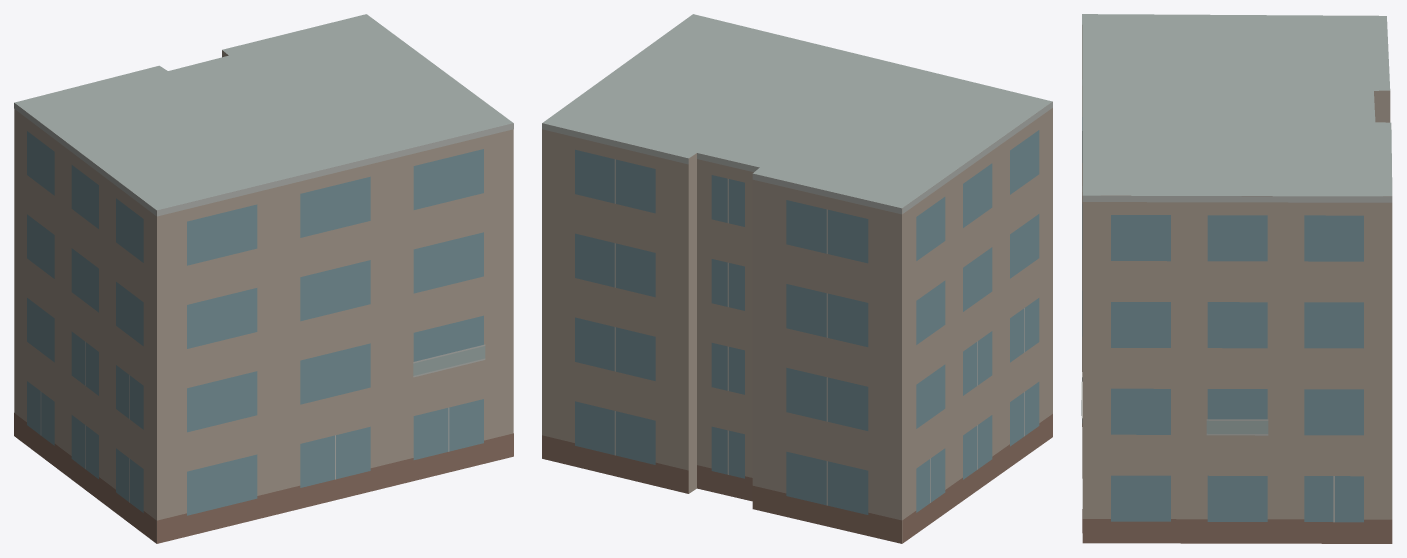
The model's file is survey-upis-32982273.glb.
The picture shows the model from 3 angles, left to right: view 1: azimuth 30°, elevation 25°; view 2: azimuth 150°, elevation 25°; view 3: azimuth 270°, elevation 25°; orthographic projection. The views are drawn at different scales.
Visible parts, largest first — view 1: survey-upis-32982273.tmp; view 2: survey-upis-32982273.tmp; view 3: survey-upis-32982273.tmp.
Part boxes in pixels (box(x1,y1,x2,y2)): survey-upis-32982273.tmp: box(14, 14, 513, 543); survey-upis-32982273.tmp: box(542, 14, 1052, 543); survey-upis-32982273.tmp: box(1081, 14, 1392, 543).
Size of the model in its own units: 15.1 by 13.4 by 10.88.
